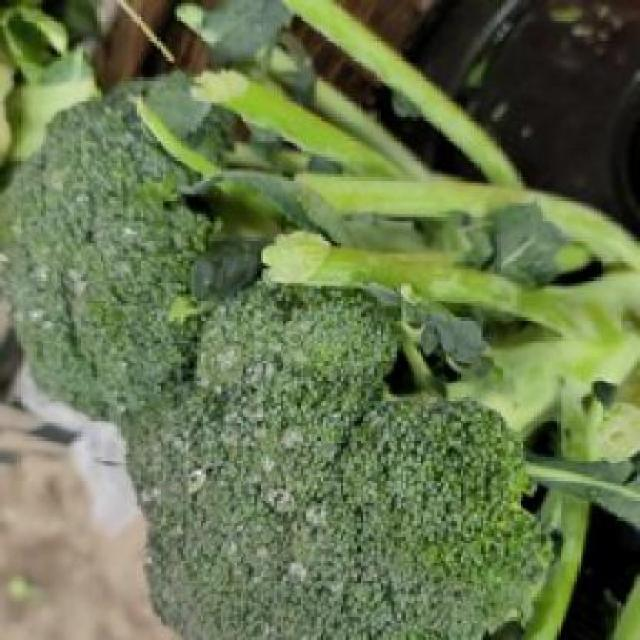broccoli: (119, 243, 612, 632), (9, 91, 242, 412)
